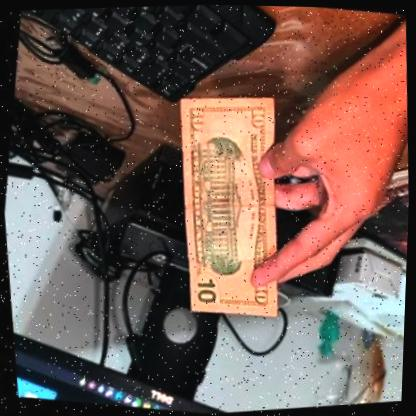ten-back: (137, 77, 320, 332)
